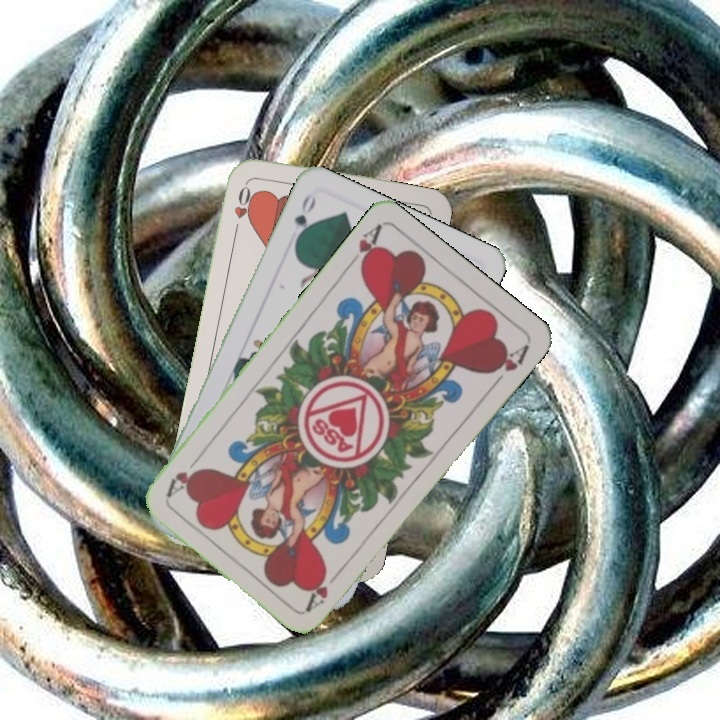GO: (290, 190, 319, 247)
HA: (302, 563, 346, 613), (342, 221, 384, 273)
HO: (230, 177, 258, 236)
